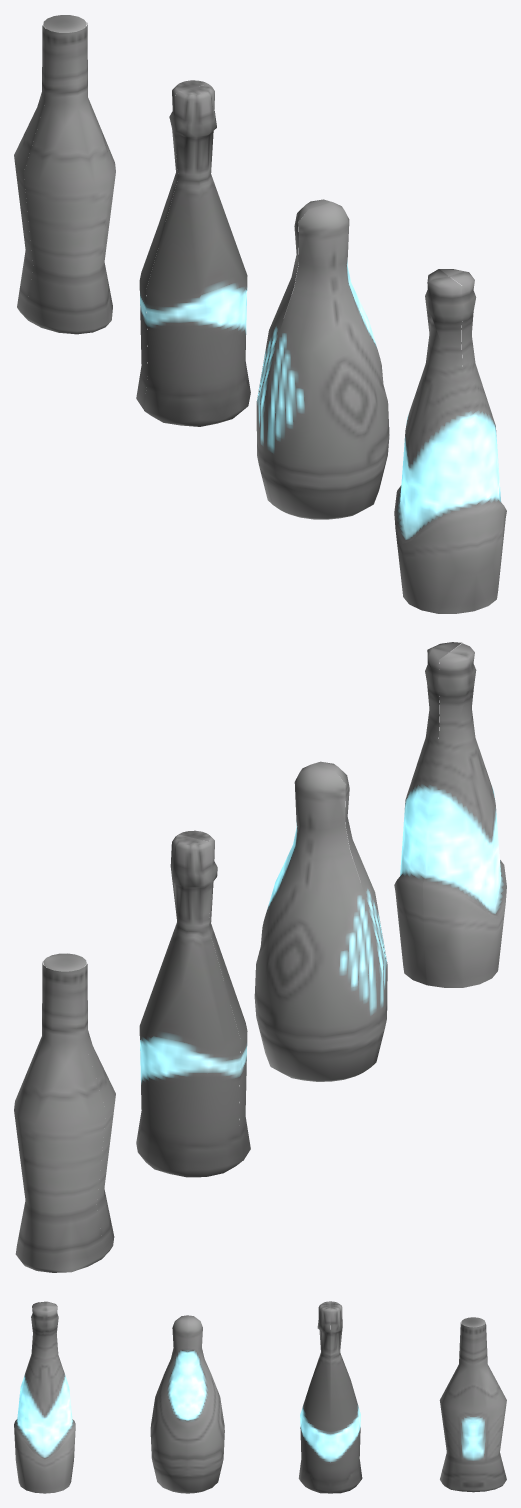
Rendered from bar_bottles_5_b.glb.
3 renders of one model, top to bottom at view 1: azimuth 30°, elevation 25°; view 2: azimuth 150°, elevation 25°; view 3: azimuth 270°, elevation 25°, orthographic. The views are drawn at different scales.
Parts seen in each view (by area): view 1: bar_bottles_5; view 2: bar_bottles_5; view 3: bar_bottles_5.
Part boxes in pixels (x1,y1,x2,y2): bar_bottles_5: (14,15,506,613); bar_bottles_5: (14,642,506,1272); bar_bottles_5: (14,1301,506,1493).
Size of the model in its own units: 0.1295 by 0.341 by 0.8598.
1 material, 1 textured.
